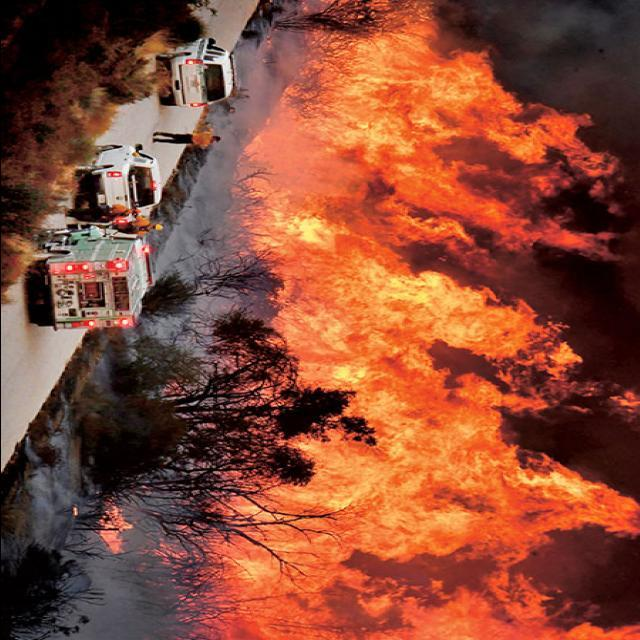Fire: (202, 11, 628, 640)
